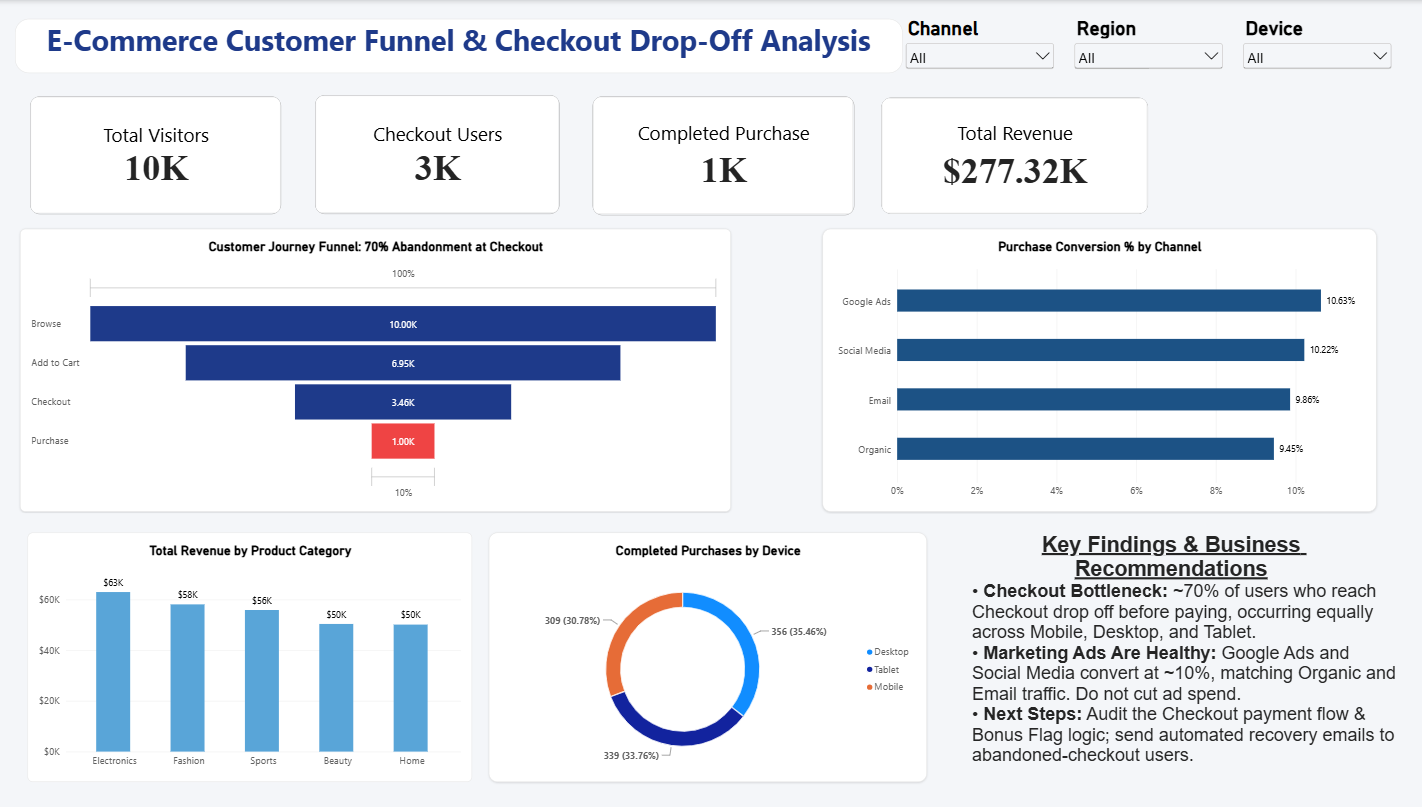

The page's visual inventory and layout, read from the dashboard file:
{"tool":"powerbi","page":{"name":"Page 1","canvas":[2117,1200],"ordinal":0},"visuals":[{"type":"textbox","box":[23.1,26.9,1317.4,80.8],"z":0},{"type":"slicer","fields":{"Values":["clean_funnel.channel"]},"box":[1340,25,230,85],"z":1000},{"type":"slicer","fields":{"Values":["clean_funnel.device"]},"box":[1840,25,230,85],"z":2000},{"type":"slicer","fields":{"Values":["clean_funnel.region"]},"box":[1590,25,230,85],"z":3000},{"type":"cardVisual","fields":{"Data":["clean_funnel.Total Visitors"]},"box":[44.2,142.3,373.1,175],"z":4000},{"type":"cardVisual","fields":{"Data":["clean_funnel.Checkout Users"]},"box":[467.3,140.4,363.5,176.9],"z":5000},{"type":"cardVisual","fields":{"Data":["clean_funnel.Completed Purchase"]},"box":[878.9,142.3,388.5,176.9],"z":6000},{"type":"cardVisual","fields":{"Data":["Sum(clean_funnel.revenue)"]},"box":[1307.7,144.2,396.2,173.1],"z":7000},{"type":"funnel","title":"Customer Journey Funnel: 70% Abandonment at Checkout","fields":{"Category":["clean_funnel.event"],"Y":["Count(clean_funnel.user_id)"]},"box":[30,340,1055,420],"z":8000},{"type":"clusteredBarChart","title":"Purchase Conversion % by Channel","fields":{"Category":["clean_funnel.channel"],"Y":["clean_funnel.Conversion Rate %"]},"box":[1220,340,822,420],"z":9000},{"type":"donutChart","title":"Completed Purchases by Device","fields":{"Category":["clean_funnel.device"],"Y":["clean_funnel.Completed Purchase"]},"box":[725,790,650,370],"z":10000},{"type":"textbox","box":[1400,790,675,370],"z":11000},{"type":"clusteredColumnChart","title":"Total Revenue by Product Category","fields":{"Category":["clean_funnel.product_category"],"Y":["Sum(clean_funnel.revenue)"]},"box":[40,790,660,370],"z":12000}]}

Visuals, with their boxes in screenshot pixels (x1, y1, x2, y2), scaled from the page's 2117x1200 canvas onto the 1422x807 screenshot:
textbox: bbox=(16, 18, 900, 72)
slicer - clean_funnel.channel: bbox=(900, 17, 1055, 74)
slicer - clean_funnel.device: bbox=(1236, 17, 1390, 74)
slicer - clean_funnel.region: bbox=(1068, 17, 1223, 74)
cardVisual - clean_funnel.Total Visitors: bbox=(30, 96, 280, 213)
cardVisual - clean_funnel.Checkout Users: bbox=(314, 94, 558, 213)
cardVisual - clean_funnel.Completed Purchase: bbox=(590, 96, 851, 215)
cardVisual - Sum(clean_funnel.revenue): bbox=(878, 97, 1145, 213)
"Customer Journey Funnel: 70% Abandonment at Checkout" funnel: bbox=(20, 229, 729, 511)
"Purchase Conversion % by Channel" clusteredBarChart: bbox=(819, 229, 1372, 511)
"Completed Purchases by Device" donutChart: bbox=(487, 531, 924, 780)
textbox: bbox=(940, 531, 1394, 780)
"Total Revenue by Product Category" clusteredColumnChart: bbox=(27, 531, 470, 780)
